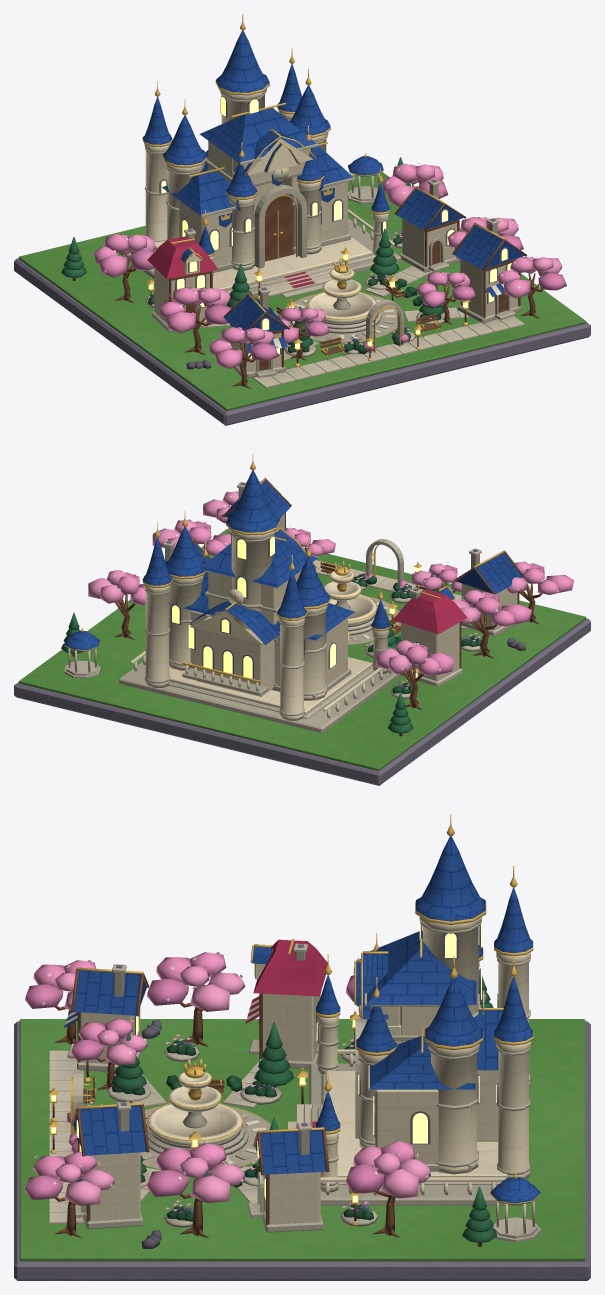
Rendered from central-royal-district-low.glb.
3 views of the same model, one above another, from view 1: azimuth 30°, elevation 25°; view 2: azimuth 150°, elevation 25°; view 3: azimuth 270°, elevation 25° (orthographic). The views are drawn at different scales.
Parts seen in each view (by area): view 1: city_level_1, city_level_2, city_level_3; view 2: city_level_1, city_level_2, city_level_3; view 3: city_level_1, city_level_2, city_level_3.
Part boxes in pixels (x1=…): city_level_1: x1=14, y1=14, x2=590, y2=425; city_level_2: x1=142, y1=48, x2=302, y2=241; city_level_3: x1=199, y1=167, x2=390, y2=288; city_level_1: x1=14, y1=454, x2=590, y2=785; city_level_2: x1=142, y1=522, x2=307, y2=720; city_level_3: x1=202, y1=541, x2=390, y2=673; city_level_1: x1=14, y1=814, x2=590, y2=1280; city_level_2: x1=494, y1=866, x2=533, y2=1179; city_level_3: x1=315, y1=954, x2=340, y2=1192.
Bounding box in the file's own units: 15.3 × 10.02 × 15.3.
15 materials, 15 textured.
